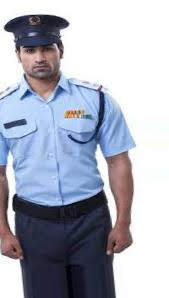uniform: (6, 14, 128, 275)
